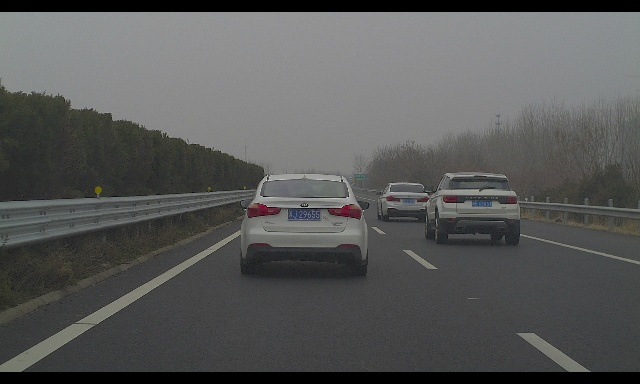car: (240, 174, 370, 276), (424, 172, 521, 245), (375, 182, 430, 221)
